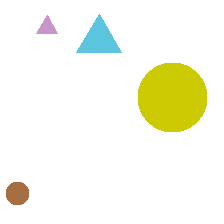circle: (138, 63, 206, 131), (6, 182, 28, 204)
triangle: (76, 14, 121, 52), (36, 15, 57, 33)
